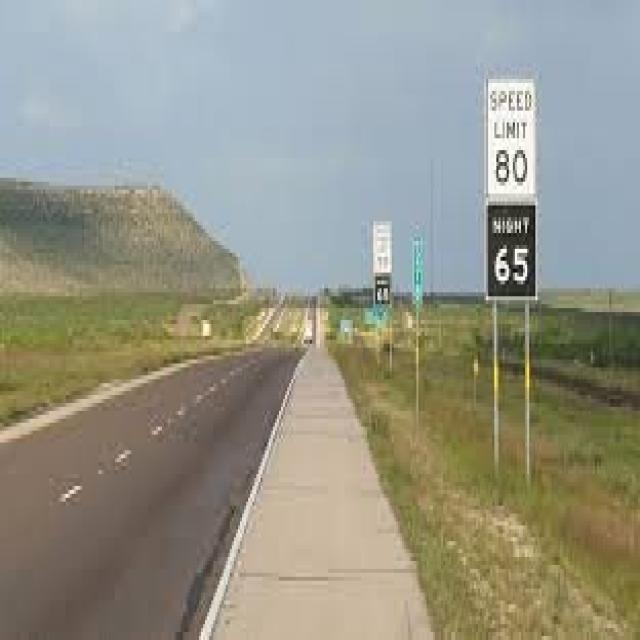speedLimit80: (483, 75, 539, 202)
